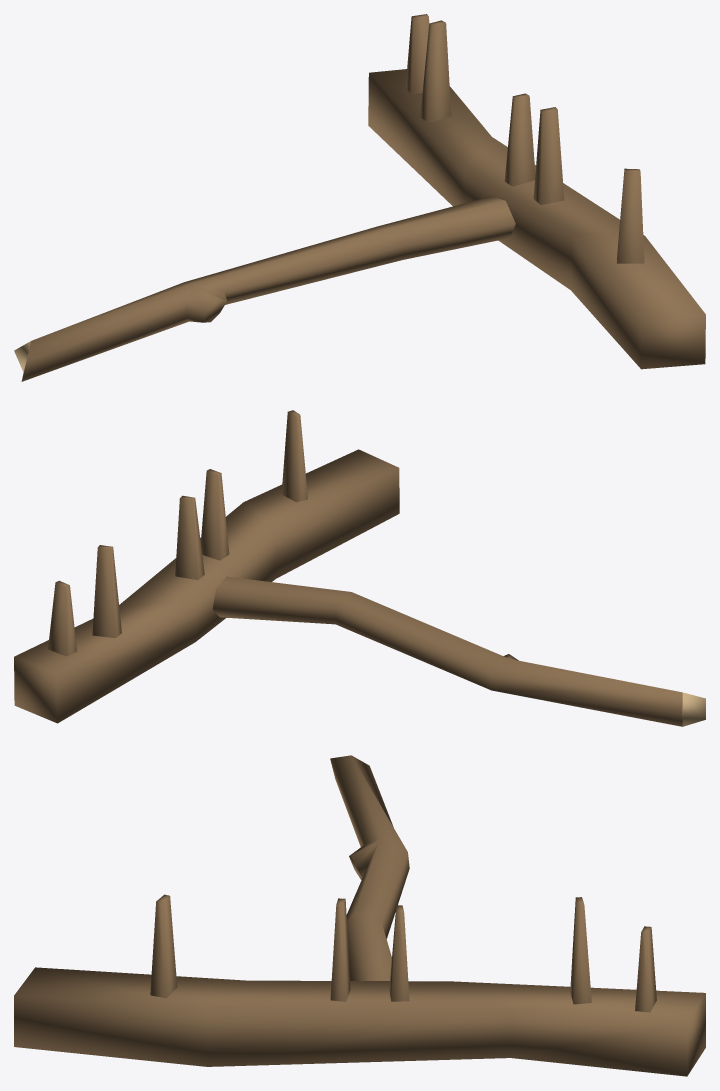
Rendered from rpgpp_av_rake_01.gltf.
The picture shows the model from 3 angles, top to bottom: view 1: azimuth 30°, elevation 25°; view 2: azimuth 150°, elevation 25°; view 3: azimuth 270°, elevation 25°; orthographic projection. The views are drawn at different scales.
Parts seen in each view (by area): view 1: rpgpp_av_rake_01; view 2: rpgpp_av_rake_01; view 3: rpgpp_av_rake_01.
Part boxes in pixels (x1,y1,x2,y2): rpgpp_av_rake_01: [14, 14, 705, 381]; rpgpp_av_rake_01: [14, 410, 705, 726]; rpgpp_av_rake_01: [14, 755, 705, 1076].
Size of the model in its own units: 0.00629 by 0.00151 by 0.00623.
Materials: 1 (1 with a texture image).
